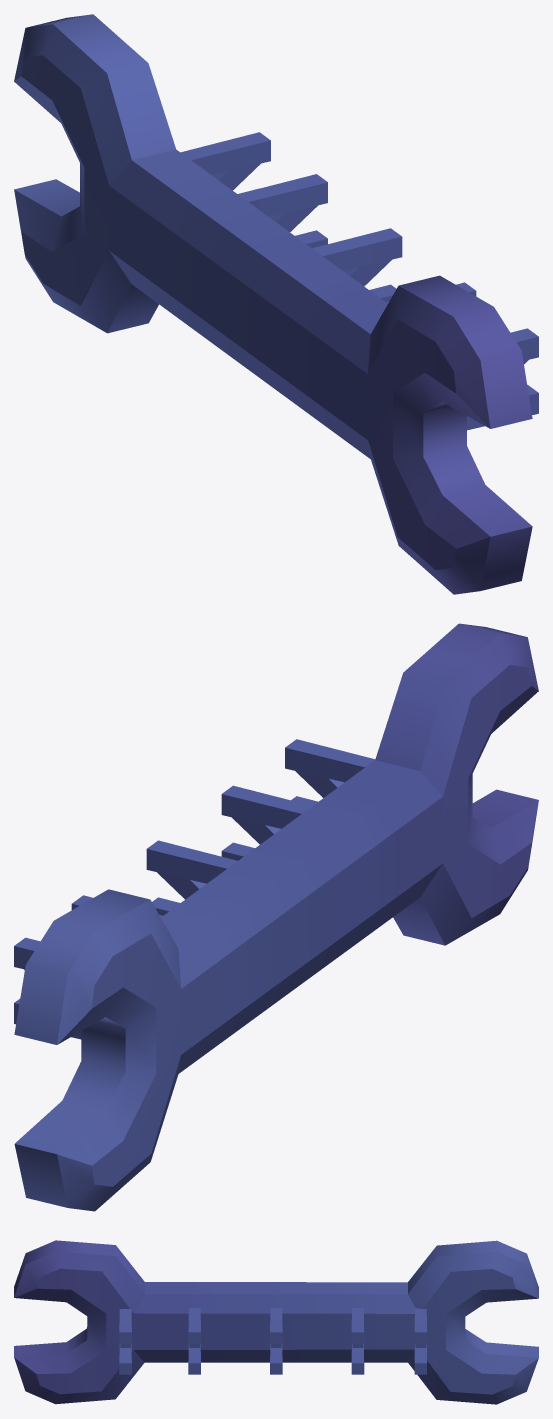
File: FlatWrenchSign_2_C.fbx
3 renders of one model, top to bottom at view 1: azimuth 30°, elevation 25°; view 2: azimuth 150°, elevation 25°; view 3: azimuth 270°, elevation 25°, orthographic. The views are drawn at different scales.
Visible parts, largest first — view 1: FlatWrenchSign_2_C; view 2: FlatWrenchSign_2_C; view 3: FlatWrenchSign_2_C.
Boxes of the visible parts, x1,y1,x2,y2 form: FlatWrenchSign_2_C: (14, 14, 538, 594); FlatWrenchSign_2_C: (14, 623, 538, 1211); FlatWrenchSign_2_C: (14, 1240, 538, 1404).
Size of the model in its own units: 76.66 by 129 by 401.
